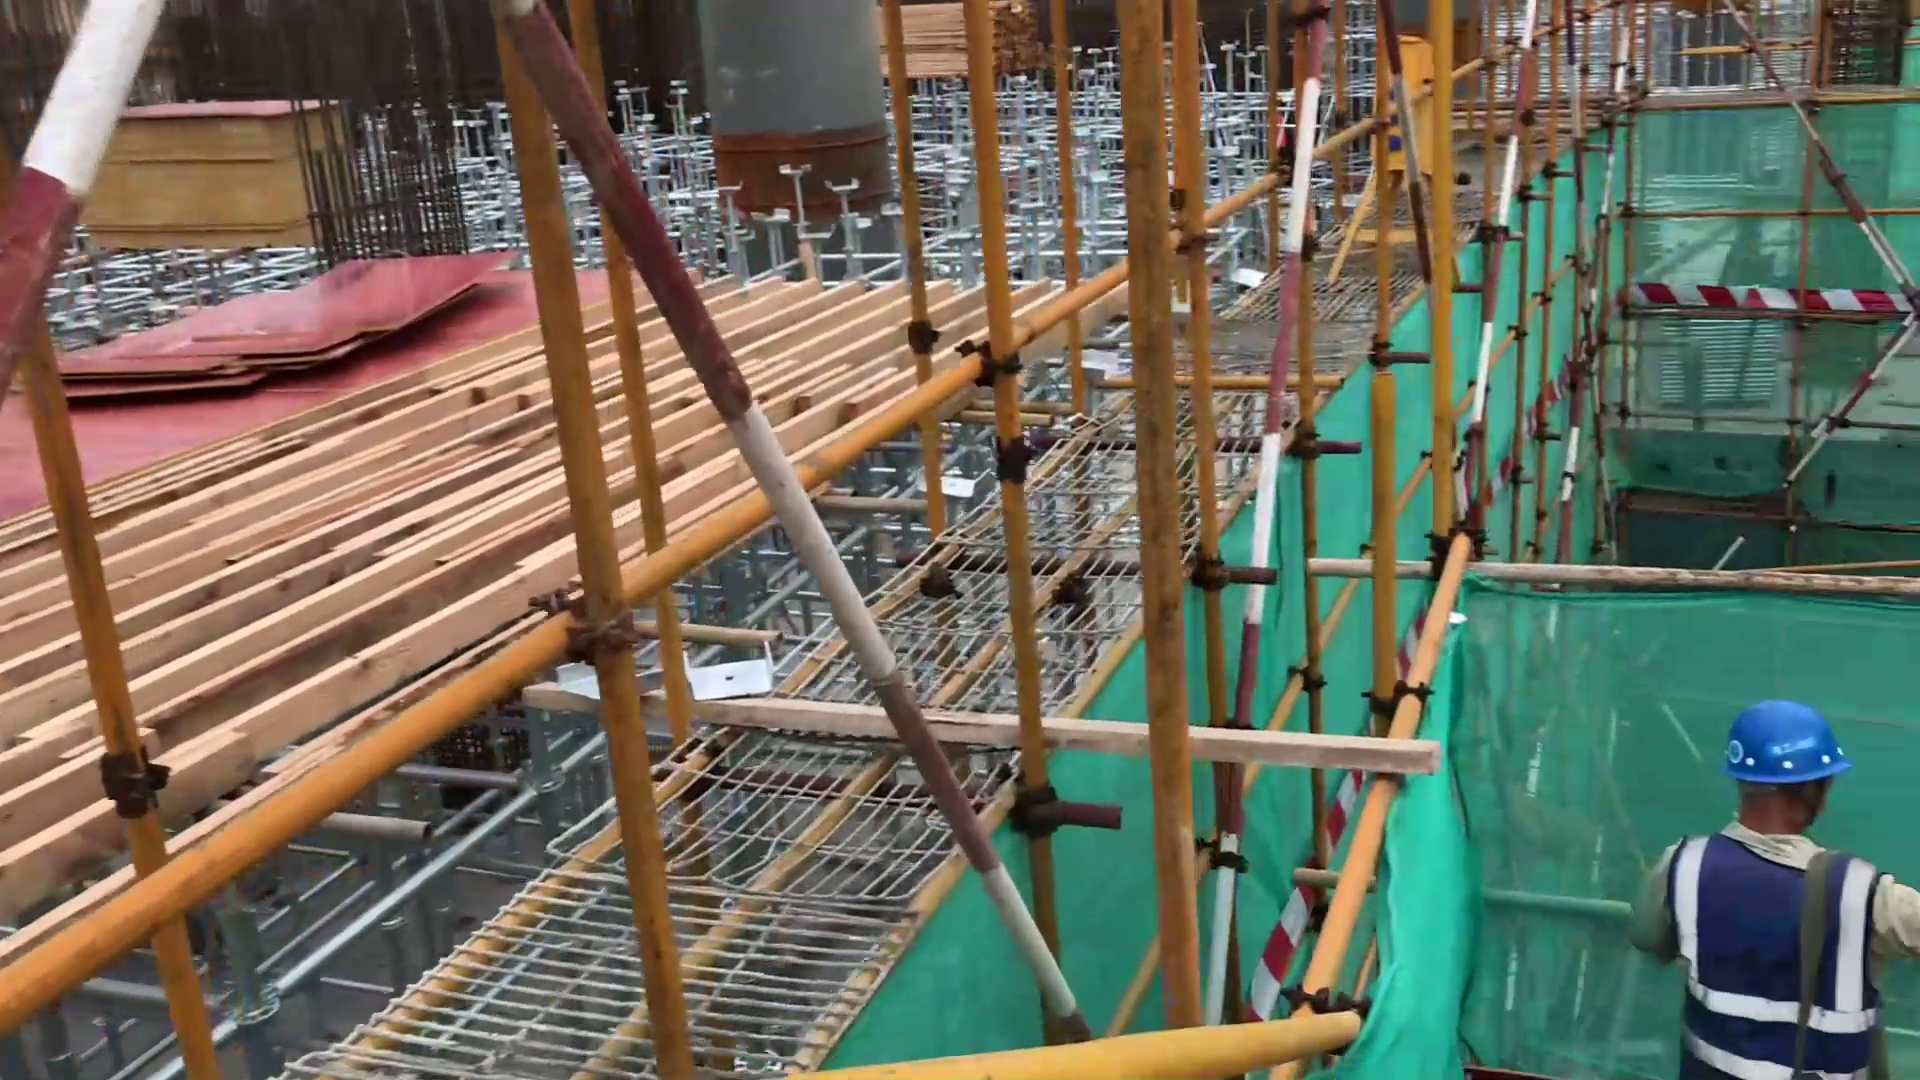board: (1, 238, 521, 415), (77, 71, 358, 256)
ebox: (1355, 30, 1475, 294)
helmet: (1718, 697, 1858, 793)
person: (1636, 689, 1919, 1080)
vest: (1671, 824, 1878, 1080)
wood: (29, 274, 1056, 878), (875, 1, 1032, 86)
